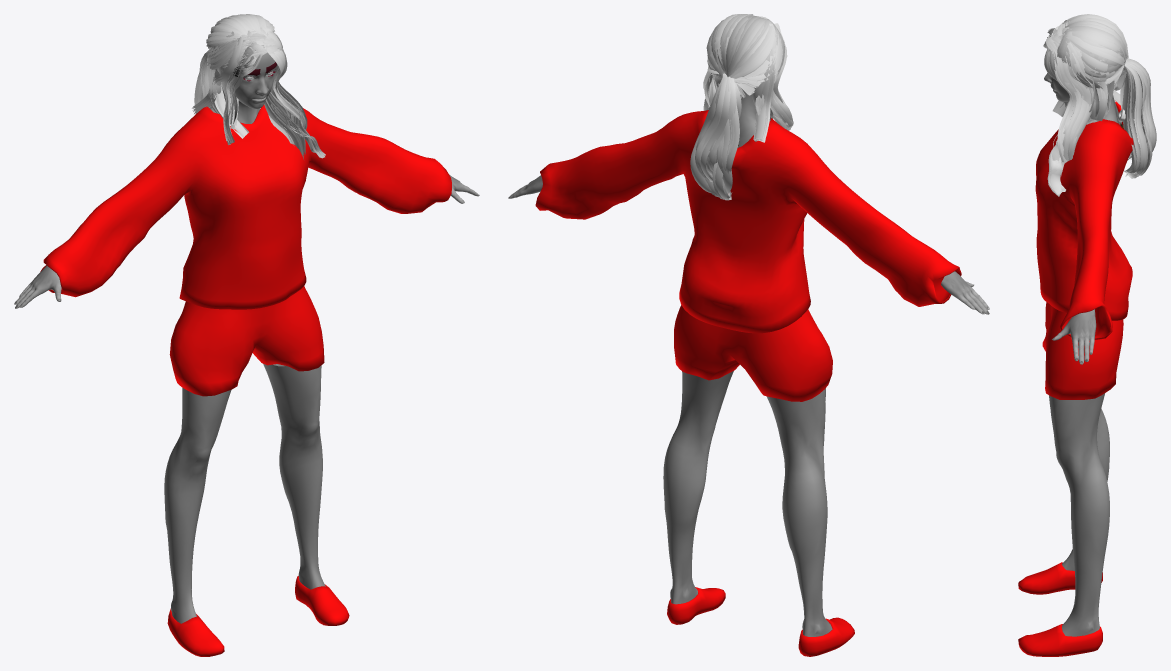
File: SilkShirtSuitRetopoForRayII.fbx
3 views of the same model, side by side, from view 1: azimuth 30°, elevation 25°; view 2: azimuth 150°, elevation 25°; view 3: azimuth 270°, elevation 25° (orthographic). The views are drawn at different scales.
Parts seen in each view (by area): view 1: SilkShirtLD, Body, SilkShorts, LongHairMainMain, PonytailMix, LeatherShoesLD, LongHairMix2; view 2: SilkShirtLD, Body, SilkShorts, PonytailMix, LeatherShoesLD, LongHairMainMain; view 3: SilkShirtLD, Body, PonytailMix, SilkShorts, LongHairMainMain, LeatherShoesLD, LongHairMix3, PonytailBackMix, LongHairMix2.
Boxes of the visible parts, x1,y1,x2,y2 form: SilkShirtLD: (40, 105, 451, 309); Body: (14, 52, 479, 623); SilkShorts: (169, 286, 324, 396); LongHairMainMain: (192, 30, 325, 159); PonytailMix: (194, 14, 283, 118); LeatherShoesLD: (167, 576, 349, 656); LongHairMix2: (230, 48, 302, 146); SilkShirtLD: (535, 110, 961, 333); Body: (508, 88, 989, 636); SilkShorts: (674, 305, 832, 401); PonytailMix: (690, 14, 784, 200); LeatherShoesLD: (667, 587, 854, 656); LongHairMainMain: (703, 16, 793, 142); SilkShirtLD: (1035, 100, 1134, 339); Body: (1044, 73, 1121, 636); PonytailMix: (1057, 14, 1156, 178); SilkShorts: (1042, 302, 1123, 399); LongHairMainMain: (1046, 21, 1120, 196); LeatherShoesLD: (1018, 562, 1102, 656); LongHairMix3: (1044, 48, 1057, 81); PonytailBackMix: (1105, 65, 1126, 90); LongHairMix2: (1043, 41, 1099, 147).
Size of the model in its own units: 130 by 161 by 33.59.
